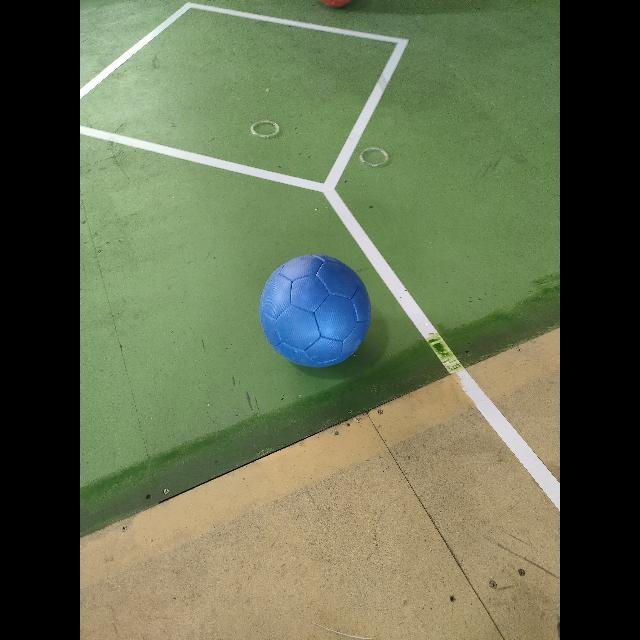B: (260, 255, 370, 367)
R: (321, 0, 351, 6)
